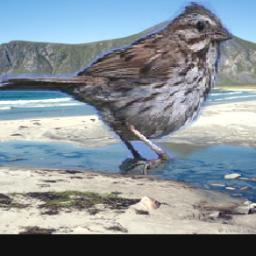Sparrow: (0, 0, 235, 175)
